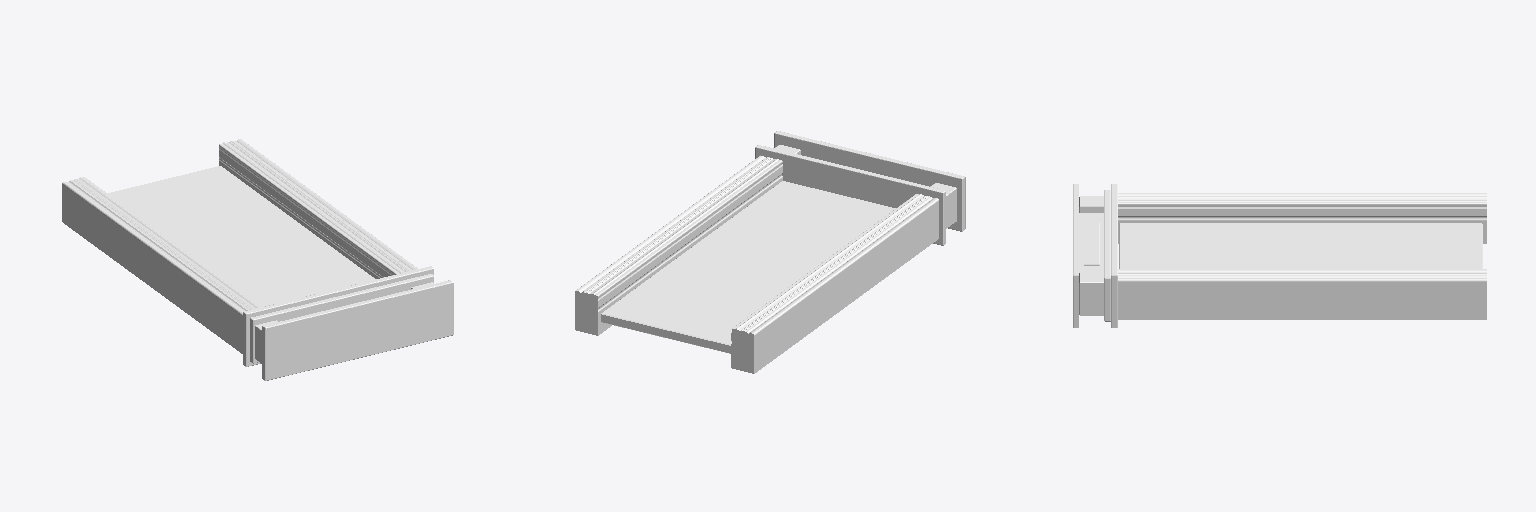
Rendered from drs001.obj.
3 renders of one model, left to right at view 1: azimuth 30°, elevation 25°; view 2: azimuth 150°, elevation 25°; view 3: azimuth 270°, elevation 25°, orthographic.
Parts seen in each view (by area): view 1: Rectangle3, Rectangle2, ChamferBox, Rectangle1, ChamferBo1, ChamferBo0; view 2: Rectangle3, Rectangle2, Rectangle1, ChamferBo0, ChamferBox; view 3: Rectangle1, Rectangle3, Rectangle2, ChamferBo2, ChamferBo0, ChamferBo1, ChamferBox, Rectangle0, ChamferBo4.
Boxes of the visible parts, box(x1,y1,x2,y2) form: Rectangle3: box(107, 166, 375, 306); Rectangle2: box(62, 177, 261, 353); ChamferBox: box(262, 280, 453, 380); Rectangle1: box(219, 139, 417, 278); ChamferBo1: box(250, 274, 433, 363); ChamferBo0: box(243, 266, 433, 366); Rectangle3: box(601, 181, 895, 353); Rectangle2: box(731, 194, 938, 373); Rectangle1: box(575, 155, 782, 335); ChamferBo0: box(755, 145, 945, 245); ChamferBox: box(774, 131, 965, 231); Rectangle1: box(1118, 269, 1486, 319); Rectangle3: box(1119, 223, 1482, 268); Rectangle2: box(1118, 193, 1486, 243); ChamferBo2: box(1079, 272, 1103, 315); ChamferBo0: box(1111, 184, 1117, 327); ChamferBo1: box(1104, 190, 1110, 321); ChamferBox: box(1073, 184, 1078, 327); Rectangle0: box(1079, 213, 1103, 272); ChamferBo4: box(1084, 223, 1099, 265).
Bounding box in the file's own units: 1296 × 351 × 2468.